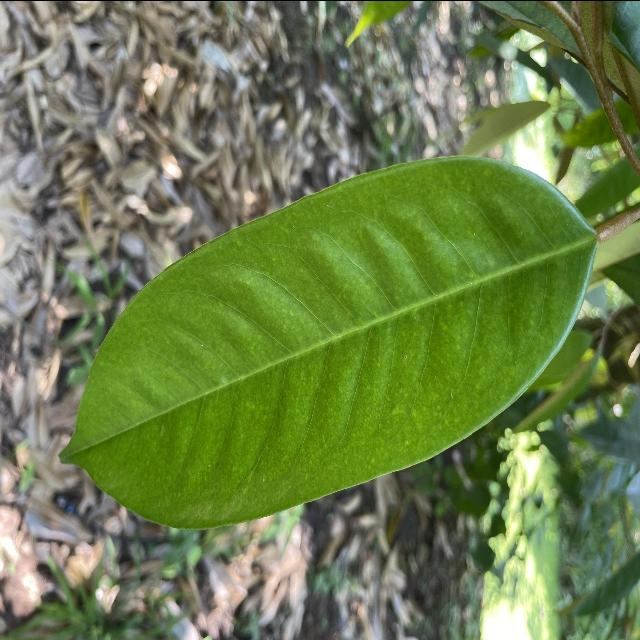No Disease: (48, 149, 605, 535)
